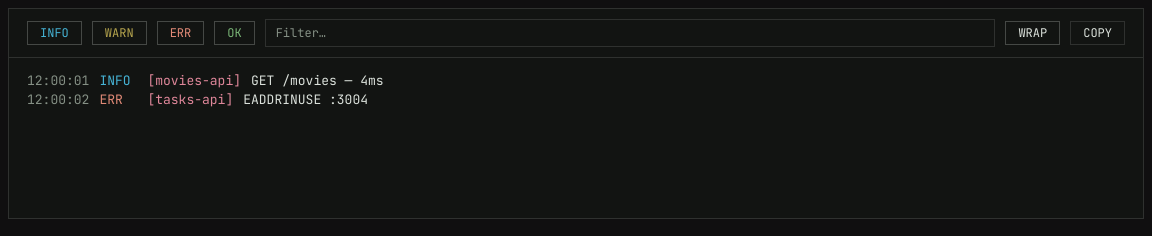
LogStream — toolbar › filters out a level when its toggle is pressed off
Click the button "ERR". click: x=180, y=33
box: [157,21,204,45]
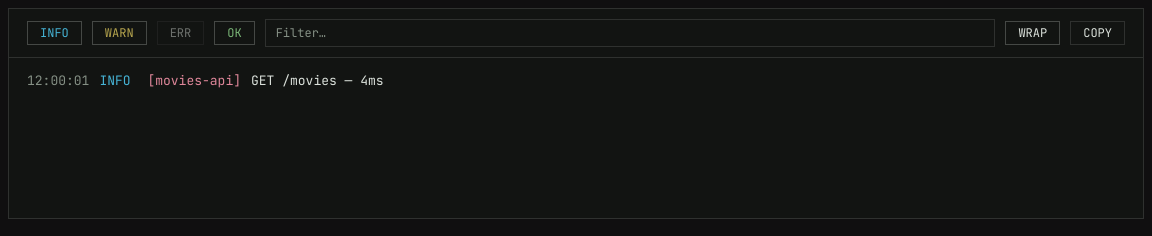
Expected: the text "EADDRINUSE" is gone
